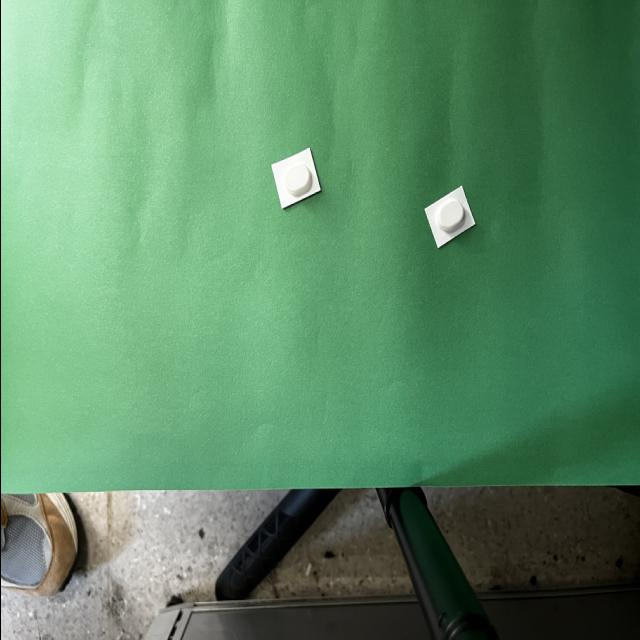Other Objects: (424, 186, 474, 248), (270, 148, 320, 209)
